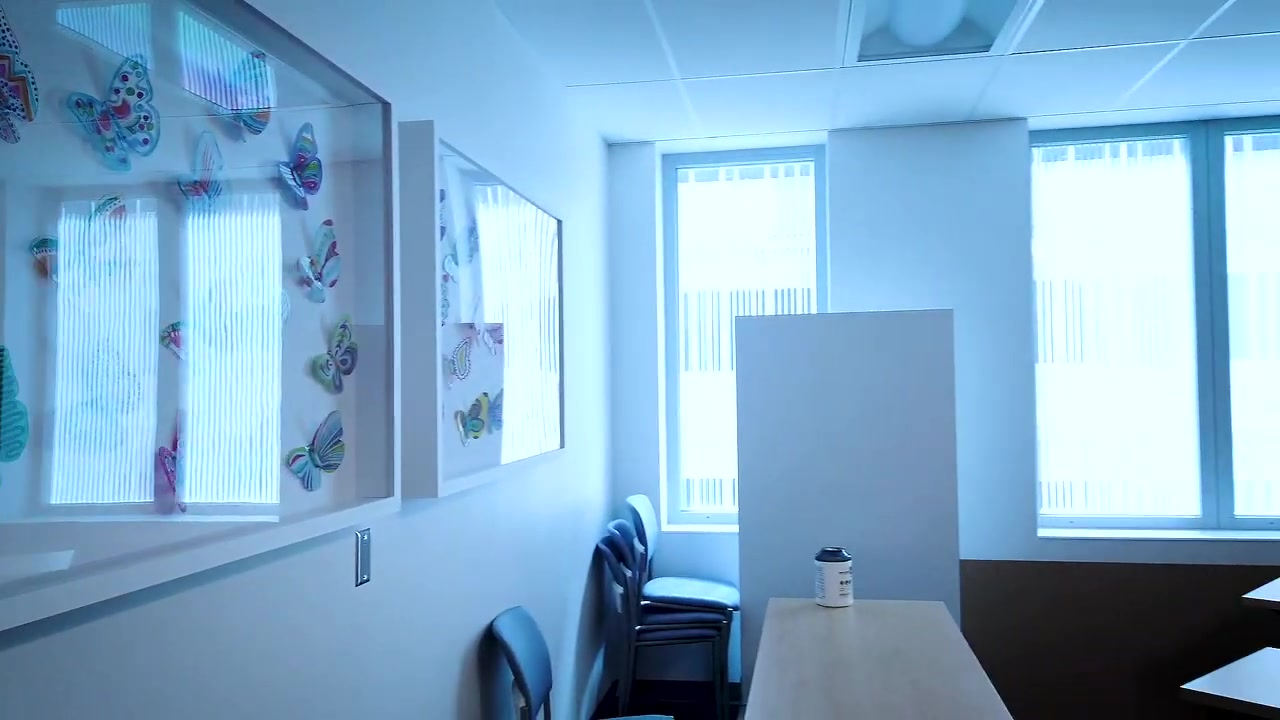chair: (625, 493, 741, 705), (607, 519, 729, 720), (596, 536, 722, 720), (491, 605, 675, 720)
table: (744, 597, 1014, 720), (1180, 647, 1280, 720), (1241, 577, 1280, 609)
